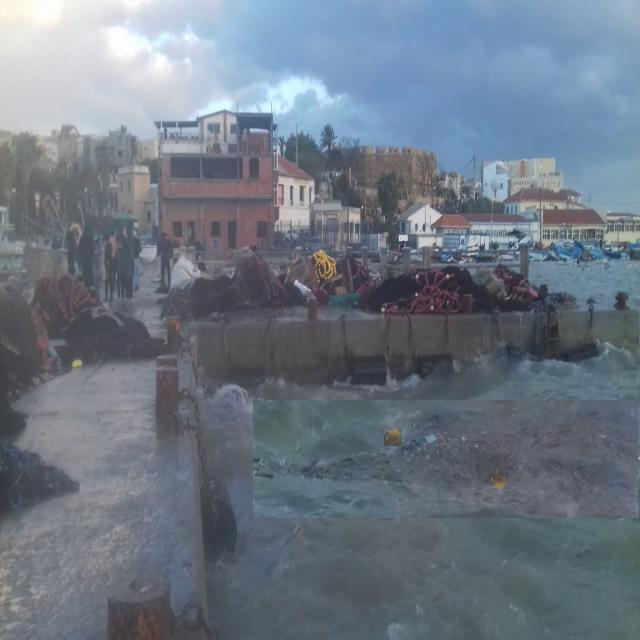Plastic: (384, 427, 402, 446)
Undefined trash: (253, 400, 638, 518)
